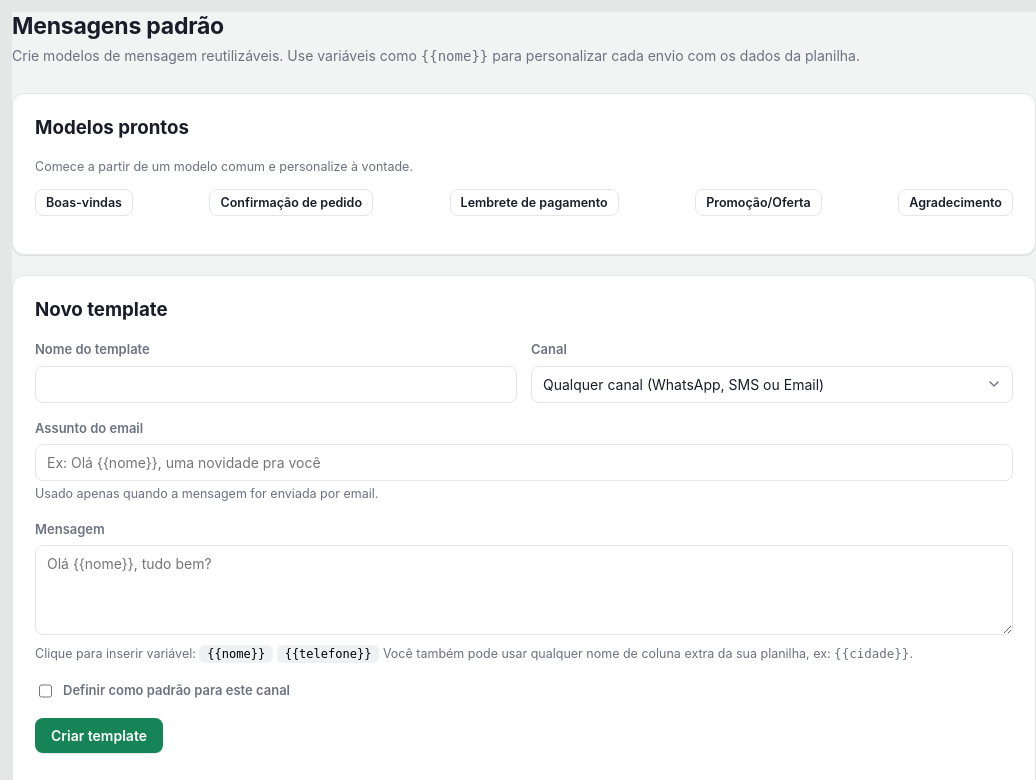
Test: TemplatesPage › shows a toast confirmation after successfully creating a template
Step 1. Type "Promo" into the field labelled "Nome do template" → {"x": 276, "y": 384}, box 35,366 -> 517,403
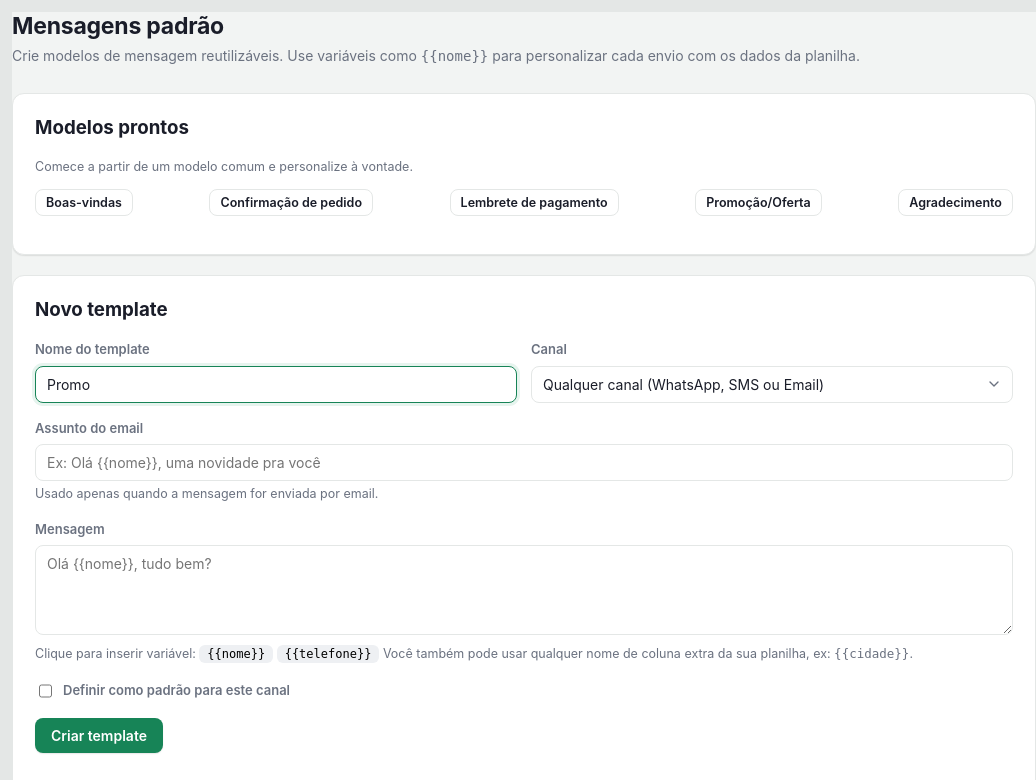
Step 2. Type "Ola" into the text box labelled "Mensagem" → {"x": 524, "y": 590}, box 35,546 -> 1013,636
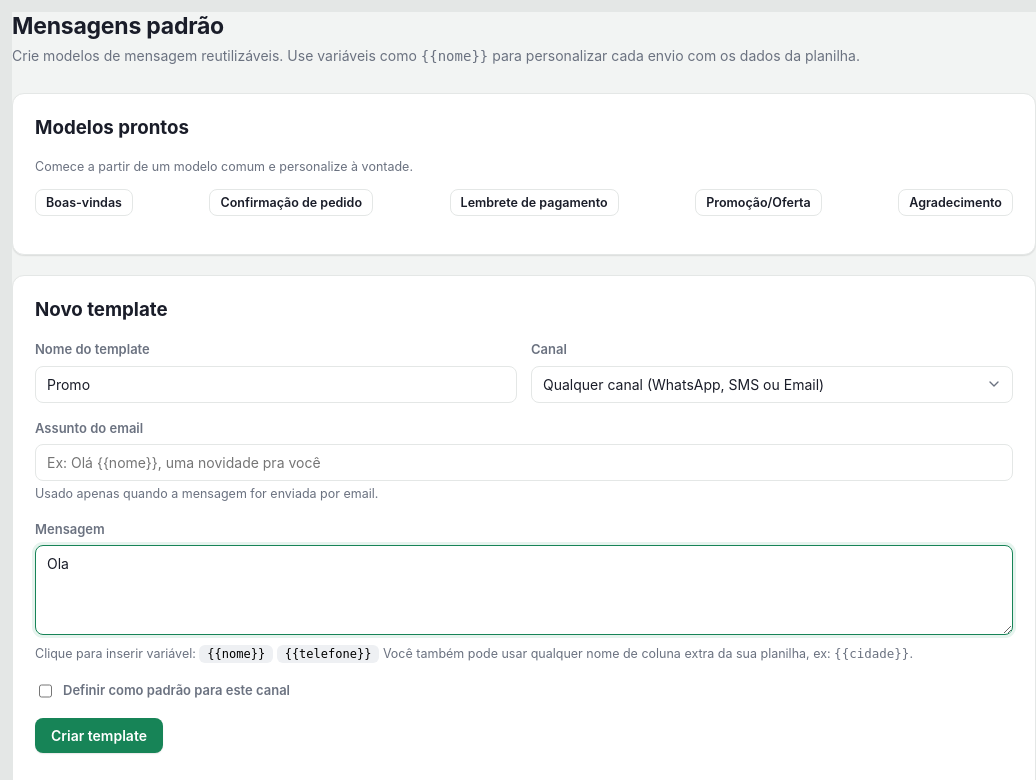
Step 3. Click the button "Criar template" → {"x": 99, "y": 736}, box 35,718 -> 163,753
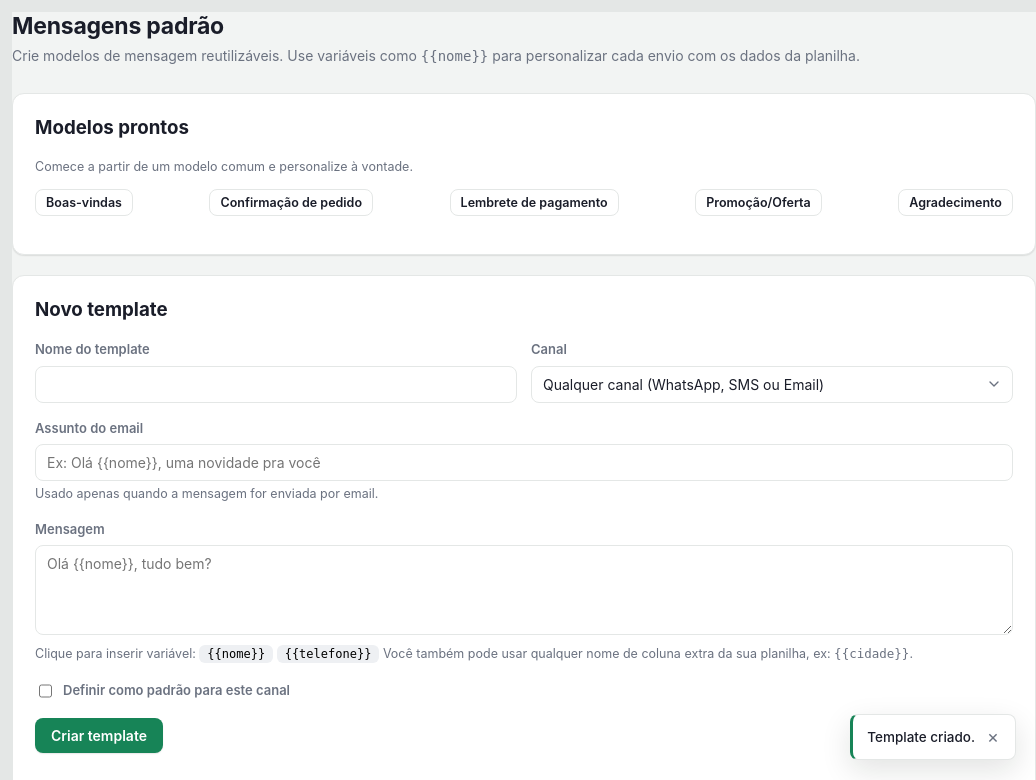
Expected: the text "Template criado." is shown, 867,727 -> 975,747
